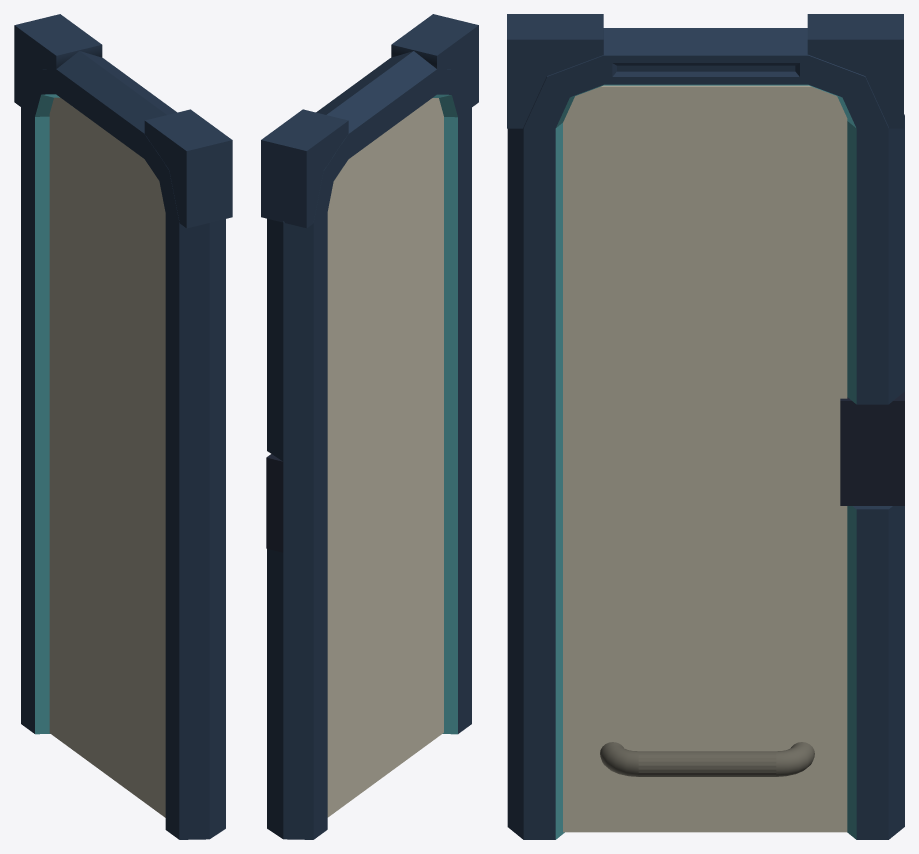
Rendered from SFDoor.fbx.
3 renders of one model, left to right at view 1: azimuth 30°, elevation 25°; view 2: azimuth 150°, elevation 25°; view 3: azimuth 270°, elevation 25°, orthographic. The views are drawn at different scales.
Visible parts, largest first — view 1: SlidingDoor, polySurface3, polySurface2, Trim; view 2: SlidingDoor, polySurface3, polySurface2, Trim, DoorInterface; view 3: SlidingDoor, polySurface3, polySurface2, Trim, DoorInterface, DoorBar.
Part boxes in pixels (bbox=[...]): SlidingDoor: bbox=[49, 97, 165, 817]; polySurface3: bbox=[21, 51, 225, 839]; polySurface2: bbox=[14, 14, 232, 228]; Trim: bbox=[35, 94, 59, 734]; SlidingDoor: bbox=[327, 98, 443, 817]; polySurface3: bbox=[267, 51, 471, 839]; polySurface2: bbox=[261, 14, 478, 228]; Trim: bbox=[433, 94, 457, 734]; DoorInterface: bbox=[266, 454, 283, 552]; SlidingDoor: bbox=[563, 85, 847, 832]; polySurface3: bbox=[507, 28, 904, 839]; polySurface2: bbox=[507, 14, 903, 128]; Trim: bbox=[555, 84, 856, 839]; DoorInterface: bbox=[840, 391, 904, 505]; DoorBar: bbox=[600, 742, 814, 776].
Size of the model in its own units: 0.193 by 2 by 0.8996.
